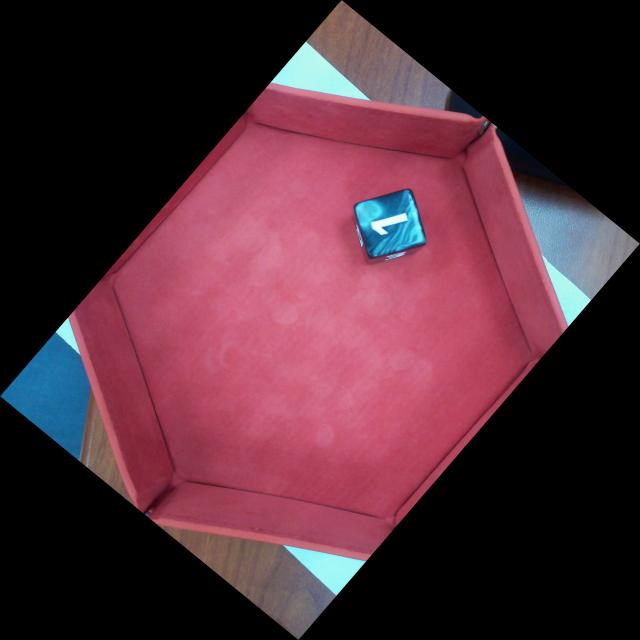dice: (351, 187, 429, 261)
